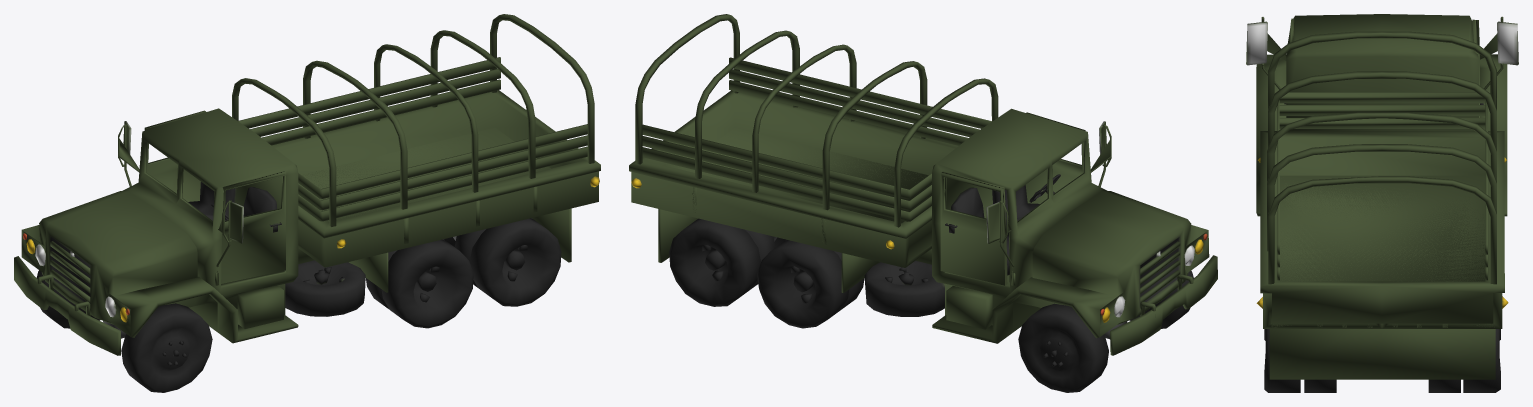
Rendered from Truck_.fbx.
The picture shows the model from 3 angles, left to right: view 1: azimuth 30°, elevation 25°; view 2: azimuth 150°, elevation 25°; view 3: azimuth 270°, elevation 25°; orthographic projection. The views are drawn at different scales.
Parts seen in each view (by area): view 1: Truck, Truck_Wheel_Back_Left, Truck_Wheel_Front_Right, Truck_Door_Left, Truck_Door_Right, Truck_Mirror_Left, Truck_Mirror_Right; view 2: Truck, Truck_Wheel_Back_Right, Truck_Wheel_Front_Left, Truck_Door_Right, Truck_Door_Left, Truck_Mirror_Right, Truck_Mirror_Left; view 3: Truck, Truck_Wheel_Back_Right, Truck_Wheel_Back_Left, Truck_Mirror_Left, Truck_Mirror_Right.
Part boxes in pixels (left/top/right/bottom): Truck: left=14, top=14, right=600, bottom=355; Truck_Wheel_Back_Left: left=366, top=218, right=561, bottom=328; Truck_Wheel_Front_Right: left=121, top=303, right=212, bottom=392; Truck_Door_Left: left=221, top=171, right=285, bottom=283; Truck_Door_Right: left=144, top=110, right=205, bottom=201; Truck_Mirror_Left: left=216, top=200, right=243, bottom=267; Truck_Mirror_Right: left=118, top=121, right=139, bottom=186; Truck: left=629, top=14, right=1217, bottom=355; Truck_Wheel_Back_Right: left=669, top=218, right=864, bottom=328; Truck_Wheel_Front_Left: left=1018, top=303, right=1108, bottom=392; Truck_Door_Right: left=940, top=171, right=1007, bottom=285; Truck_Door_Left: left=1025, top=112, right=1085, bottom=203; Truck_Mirror_Right: left=986, top=200, right=1013, bottom=267; Truck_Mirror_Left: left=1090, top=121, right=1111, bottom=186; Truck: left=1256, top=14, right=1508, bottom=379; Truck_Wheel_Back_Right: left=1428, top=329, right=1500, bottom=392; Truck_Wheel_Back_Left: left=1264, top=329, right=1336, bottom=392; Truck_Mirror_Left: left=1246, top=17, right=1286, bottom=89; Truck_Mirror_Right: left=1480, top=16, right=1518, bottom=89.
Bounding box in the file's own units: 886 × 373 × 371.
